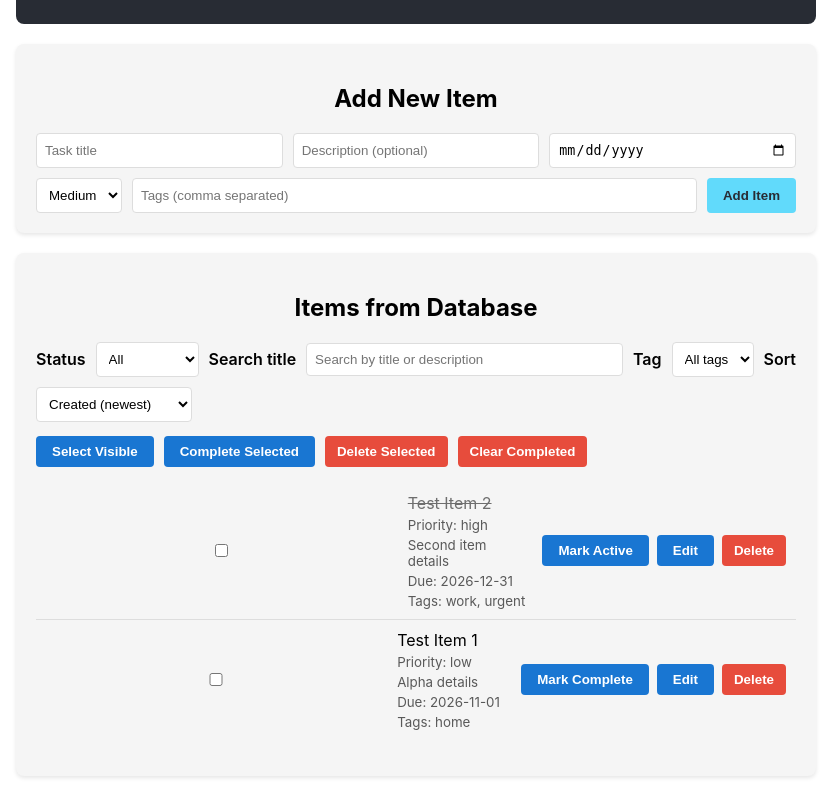
App Component › deletes selected tasks with confirmation
(page scrolled)
Expected: the text "Test Item 1" is shown, [397,630,478,650]
Click the checkbox named "Select Test Item 1" at (216, 680), box [50,674,382,686]
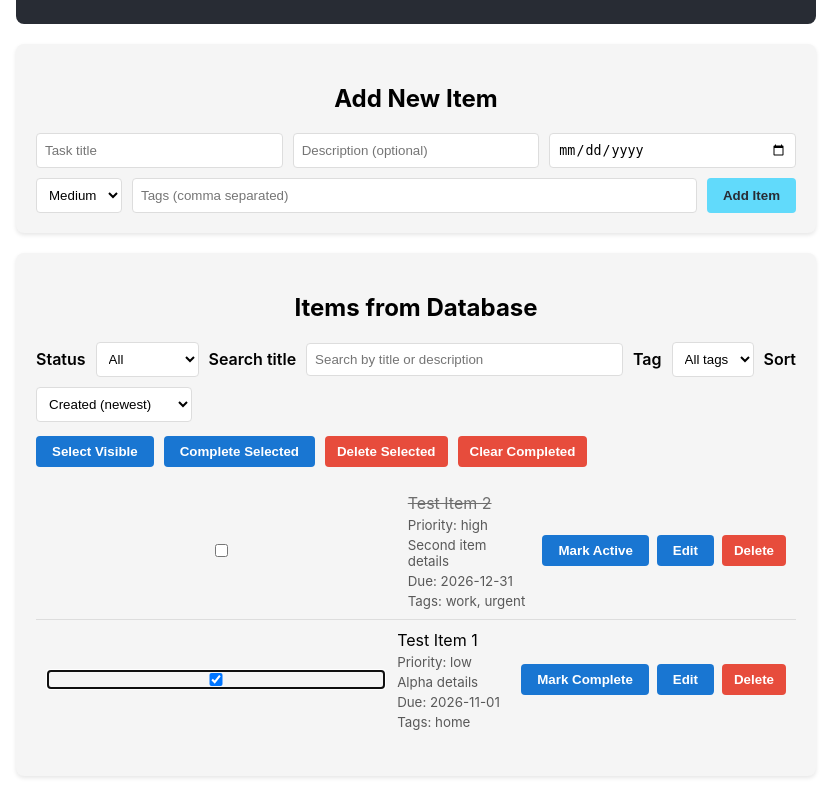
Click the button "Delete Selected" at (386, 452), box [325,436,448,467]
(page scrolled)
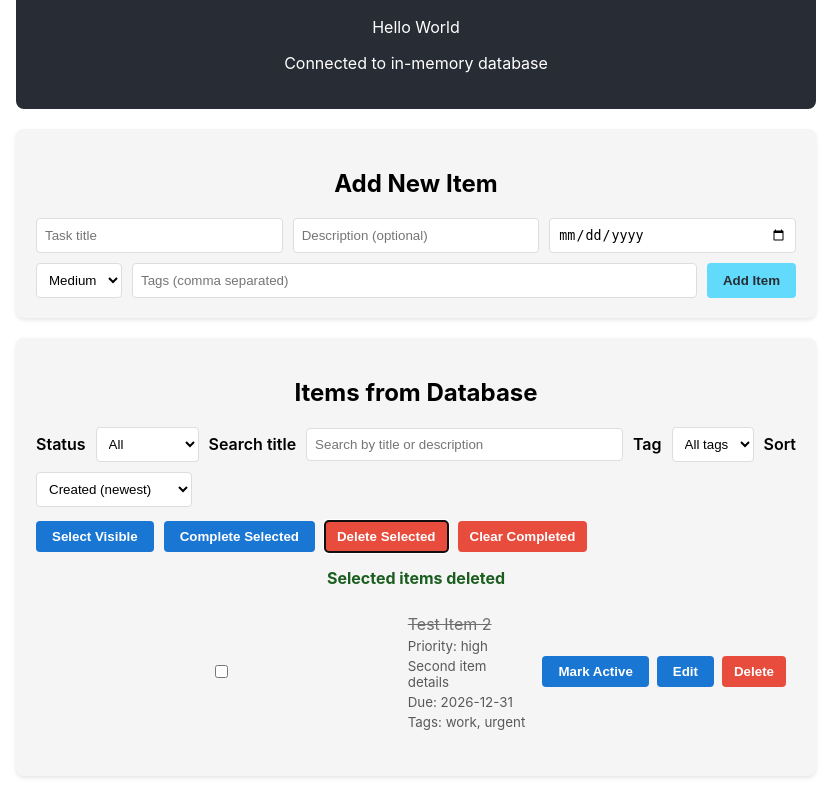
Expected: the text "Test Item 1" is gone
